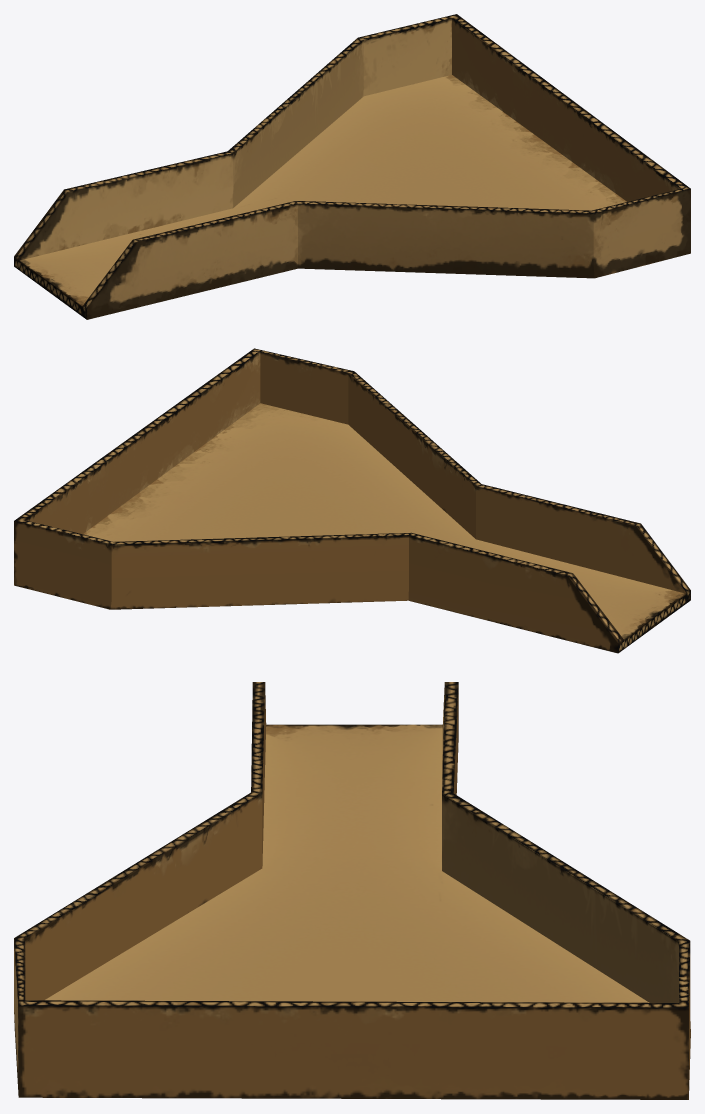
File: SM_Startpoint_Playtrack.fbx
3 renders of one model, top to bottom at view 1: azimuth 30°, elevation 25°; view 2: azimuth 150°, elevation 25°; view 3: azimuth 270°, elevation 25°, orthographic. The views are drawn at different scales.
Visible parts, largest first — view 1: Start_Panel; view 2: Start_Panel; view 3: Start_Panel.
Boxes of the visible parts, <box> form: Start_Panel: <box>14,14,690,319</box>; Start_Panel: <box>14,348,690,653</box>; Start_Panel: <box>14,682,690,1099</box>.
Bounding box in the file's own units: 11633 × 1374 × 9217.
